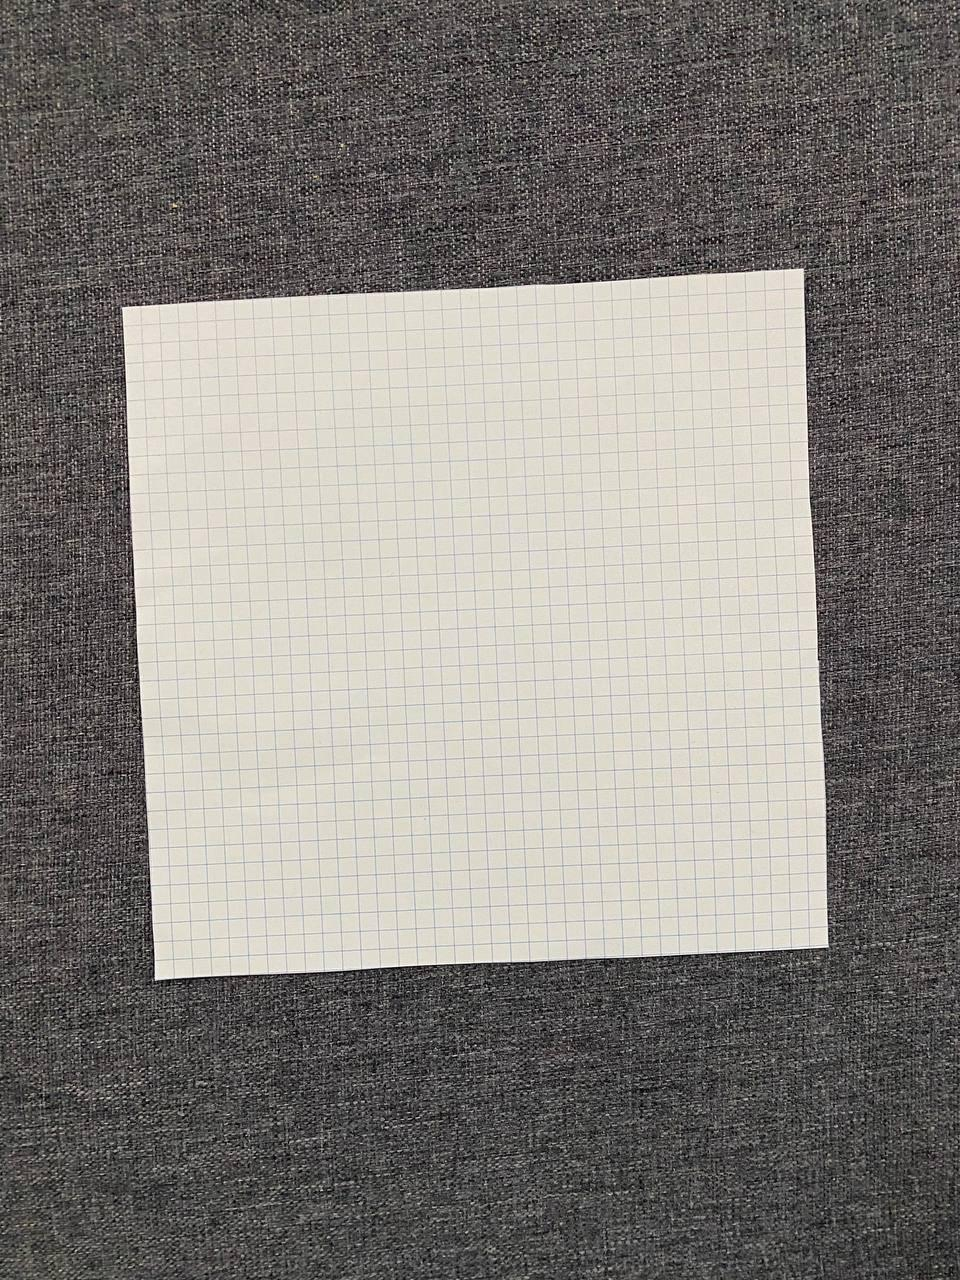grid: (108, 264, 844, 984)
